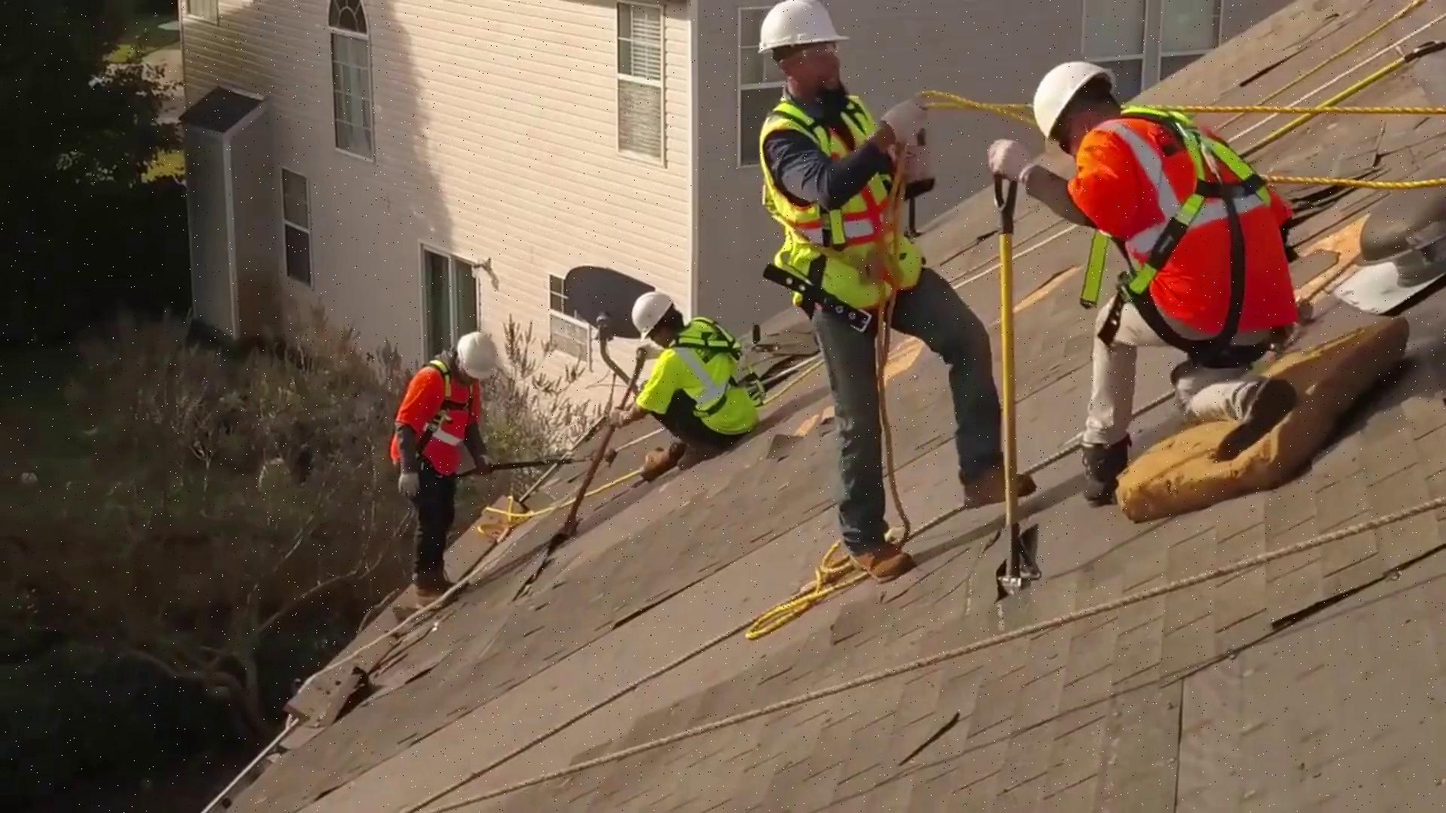Hard_hat: (1027, 54, 1108, 136), (753, 0, 847, 52), (454, 327, 513, 388), (629, 285, 677, 342)
Vest: (1070, 121, 1305, 328), (753, 93, 914, 305), (650, 335, 759, 427), (392, 357, 471, 479)
